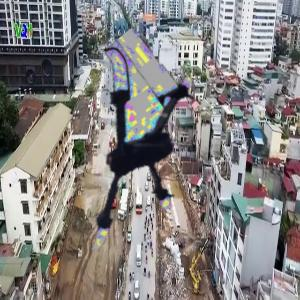drone: (33, 58, 228, 253)
